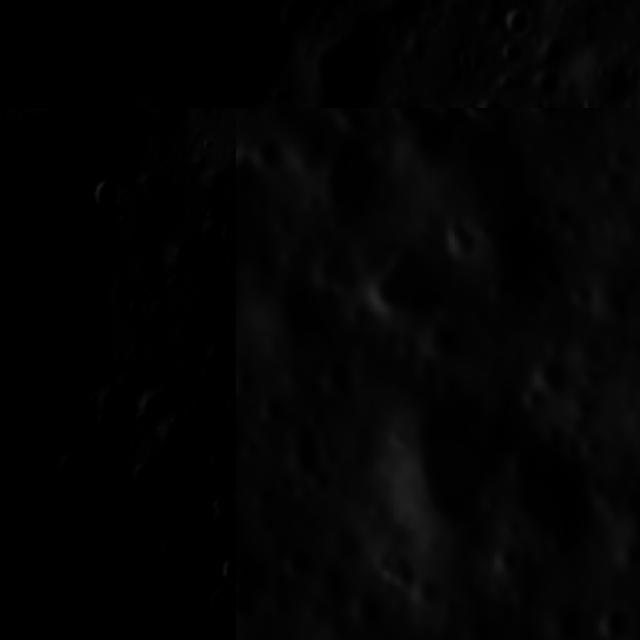crater: (0, 108, 144, 480), (362, 382, 513, 561), (458, 191, 583, 325), (487, 434, 605, 564), (356, 234, 462, 340), (305, 127, 398, 228), (293, 20, 390, 108), (248, 270, 336, 363), (304, 227, 370, 303), (128, 438, 200, 498), (236, 542, 276, 635), (370, 537, 422, 603), (274, 532, 326, 591), (526, 348, 578, 404), (423, 312, 472, 368), (341, 586, 388, 638), (610, 489, 640, 569), (437, 216, 484, 264), (245, 128, 292, 175), (128, 385, 177, 429), (117, 84, 206, 108), (319, 356, 364, 402), (236, 478, 260, 559), (86, 175, 130, 219), (431, 369, 476, 412), (561, 277, 605, 319), (535, 148, 577, 192), (484, 538, 530, 578), (453, 108, 510, 140), (252, 386, 294, 427), (158, 242, 198, 284), (530, 62, 568, 105), (417, 108, 477, 135), (488, 594, 528, 634), (499, 0, 544, 35), (236, 430, 272, 472), (207, 494, 236, 545), (201, 588, 236, 629), (515, 108, 573, 132), (56, 450, 92, 488), (154, 534, 190, 572), (144, 108, 186, 138), (379, 108, 428, 133), (90, 390, 126, 424), (200, 448, 234, 483), (602, 140, 635, 174), (202, 340, 234, 374), (248, 108, 279, 143), (200, 168, 233, 200), (202, 214, 229, 252), (498, 43, 529, 74), (510, 625, 567, 640), (217, 556, 236, 583), (236, 425, 242, 483)
